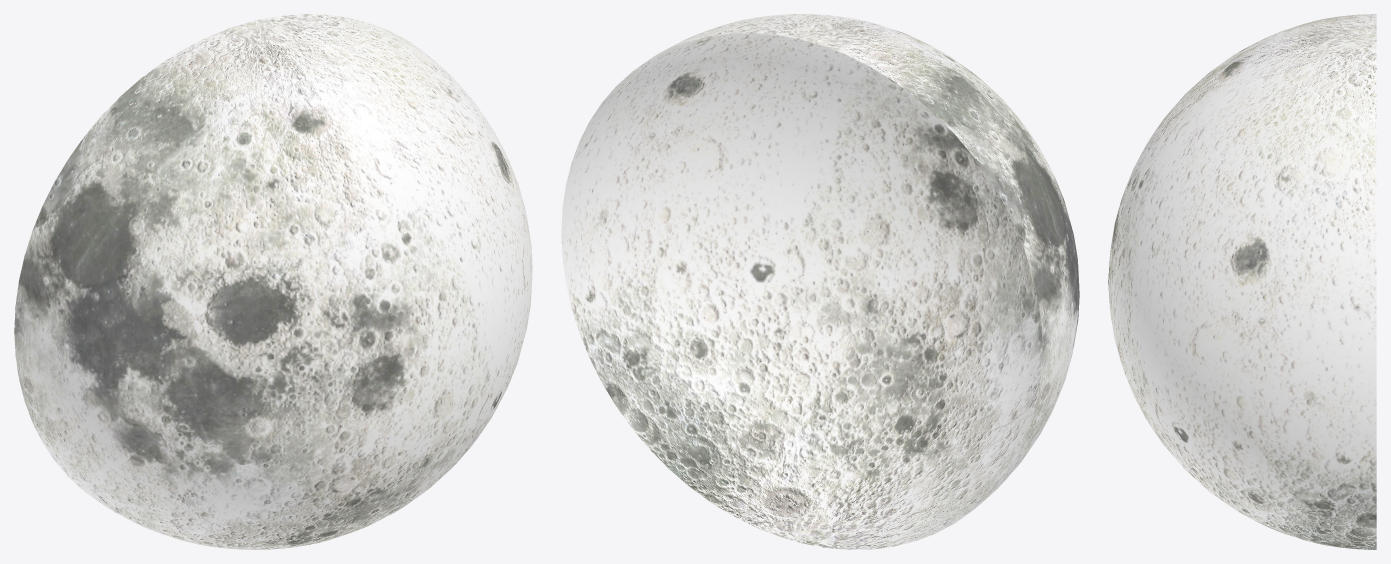
Rendered from moon.gltf.
3 views of the same model, side by side, from view 1: azimuth 30°, elevation 25°; view 2: azimuth 150°, elevation 25°; view 3: azimuth 270°, elevation 25° (orthographic). The views are drawn at different scales.
Parts seen in each view (by area): view 1: moon; view 2: moon; view 3: moon.
Part boxes in pixels (box(x1,y1,x2,y2)): moon: box(14, 14, 532, 549); moon: box(561, 14, 1079, 549); moon: box(1108, 14, 1376, 549).
Bounding box in the file's own units: 2 × 2 × 1.
1 material, 1 textured.
